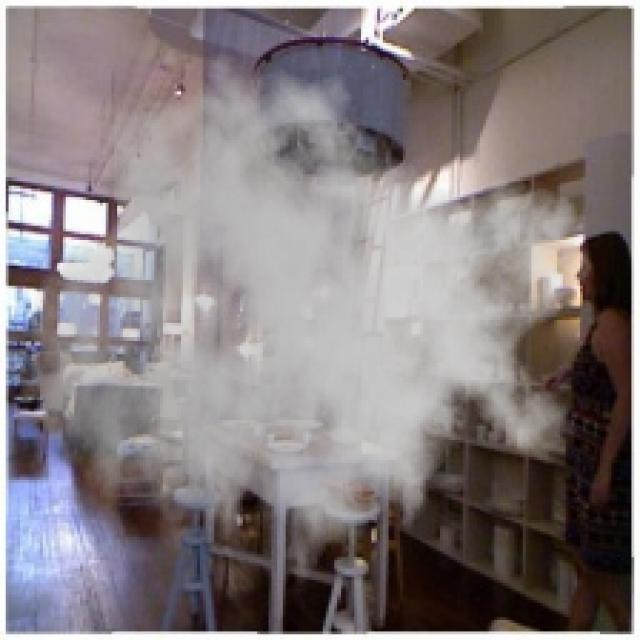Smoke: (28, 40, 594, 609)
